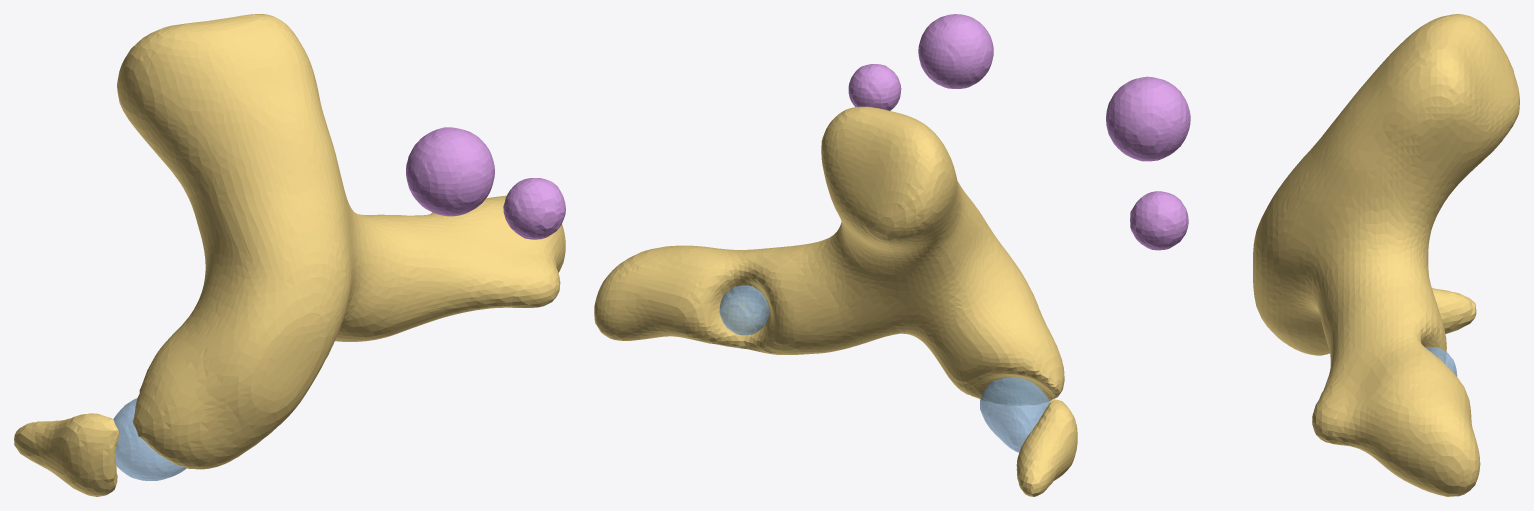
Rendered from prompt.glb.
3 views of the same model, side by side, from view 1: azimuth 30°, elevation 25°; view 2: azimuth 150°, elevation 25°; view 3: azimuth 270°, elevation 25° (orthographic). The views are drawn at different scales.
Parts seen in each view (by area): view 1: world; view 2: world; view 3: world.
Boxes of the visible parts, x1,y1,x2,y2 form: world: (14, 14, 565, 496); world: (594, 14, 1077, 496); world: (1106, 14, 1519, 496).
Bounding box in the file's own units: 0.8355 × 0.617 × 0.5925.
